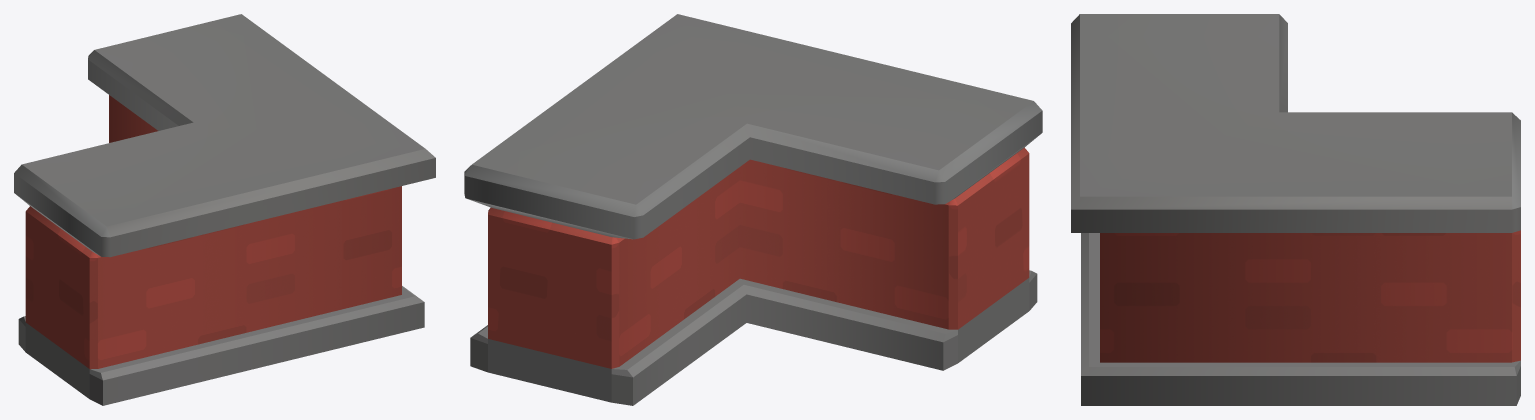
File: BrickWall_3_1.glb
3 renders of one model, left to right at view 1: azimuth 30°, elevation 25°; view 2: azimuth 150°, elevation 25°; view 3: azimuth 270°, elevation 25°, orthographic. The views are drawn at different scales.
Visible parts, largest first — view 1: BrickWall_3_1; view 2: BrickWall_3_1; view 3: BrickWall_3_1.
Boxes of the visible parts, x1,y1,x2,y2 form: BrickWall_3_1: [14, 14, 435, 405]; BrickWall_3_1: [464, 14, 1042, 405]; BrickWall_3_1: [1071, 14, 1520, 405].
Bounding box in the file's own units: 1.32 × 0.6783 × 1.32.
3 materials, 3 textured.
